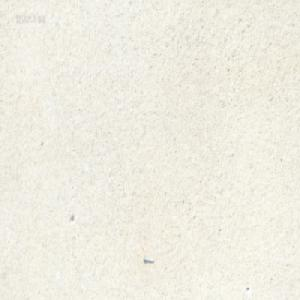Nail: (143, 257, 154, 265)
